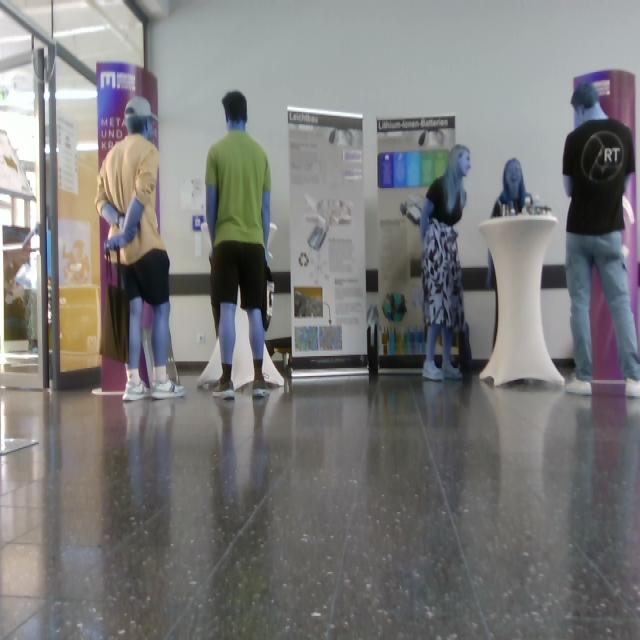door: (287, 106, 370, 377)
light bulb: (304, 193, 353, 250), (400, 200, 422, 225), (307, 225, 328, 250), (418, 129, 445, 148), (15, 261, 33, 289), (329, 128, 353, 148), (266, 222, 278, 260)
person: (95, 96, 187, 402), (562, 83, 640, 399), (205, 90, 274, 400), (420, 144, 472, 382)
tiled floor: (1, 366, 640, 640)
